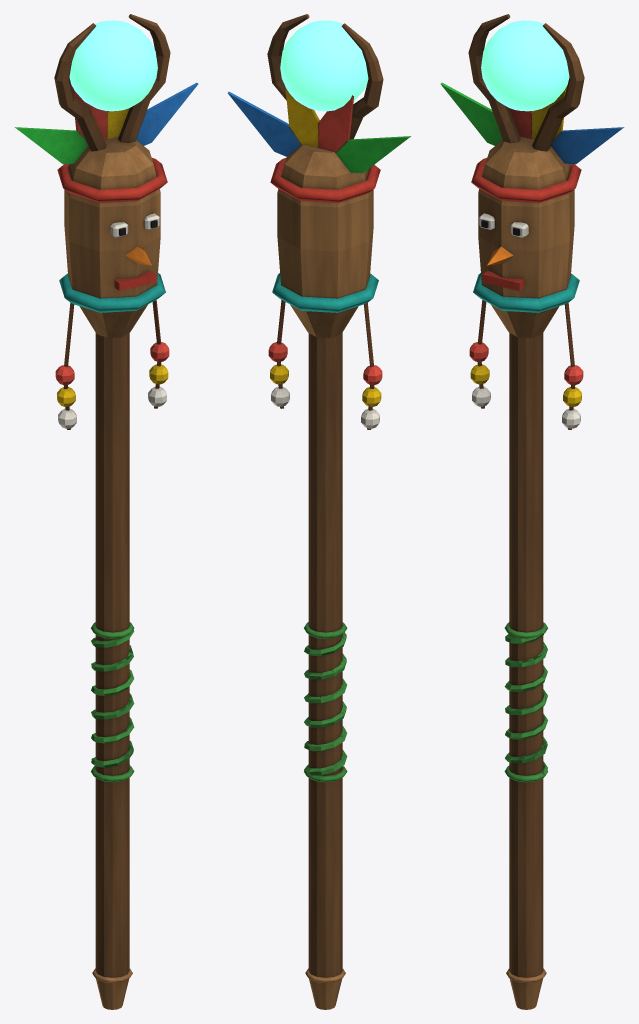
The model's file is 03_jungle_magic.fbx.
3 views of the same model, side by side, from view 1: azimuth 30°, elevation 25°; view 2: azimuth 150°, elevation 25°; view 3: azimuth 330°, elevation 25° (orthographic).
Parts seen in each view (by area): view 1: Weapon; view 2: Weapon; view 3: Weapon.
Boxes of the visible parts, x1,y1,x2,y2 form: Weapon: (14, 14, 198, 1009); Weapon: (227, 14, 410, 1009); Weapon: (440, 14, 624, 1009).
Size of the model in its own units: 32.5 by 168 by 21.02.
2 materials, 1 textured.
